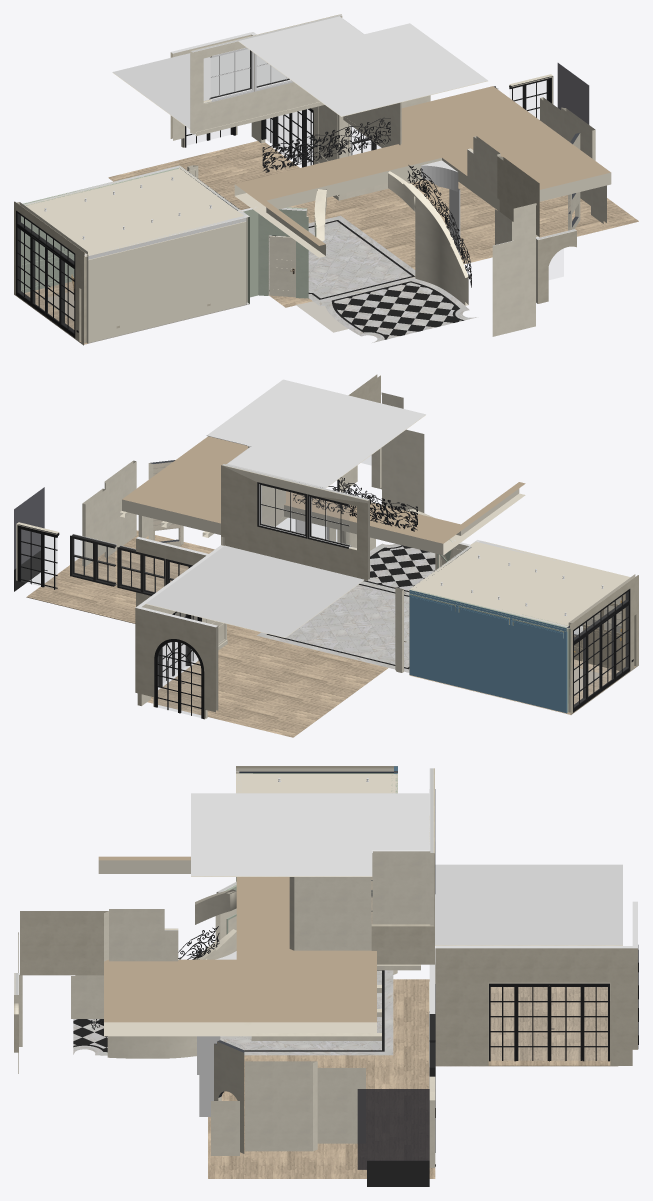
File: dining-room-99ef4219ed4d.glb
3 views of the same model, one above another, from view 1: azimuth 30°, elevation 25°; view 2: azimuth 150°, elevation 25°; view 3: azimuth 270°, elevation 25° (orthographic). The views are drawn at different scales.
Parts seen in each view (by area): view 1: dining-room-look-2575515a05775d9e, dining-room-look-9d91b47435c6fb33, dining-room-d999b7e09afcf2f4, dining-room-look-3b0077416469e01b, dining-room-2575515a05775d9e, dining-room-look-4a969f5cc1ae3dfe, dining-room-look-245f595ae2832e16, dining-room-look-e388ad8855329420, dining-room-look-6ea1225136f14ed6, dining-room-look-d5a4a1b5d3594c04, dining-room-look-8c6a7019fd0063e7, dining-room-701dbbc71a4c8bc6 (+41 smaller); view 2: dining-room-look-3b0077416469e01b, dining-room-b19b106fc304963c, dining-room-look-9d91b47435c6fb33, dining-room-look-2575515a05775d9e, dining-room-look-4a969f5cc1ae3dfe, dining-room-2575515a05775d9e, dining-room-look-245f595ae2832e16, dining-room-look-6ea1225136f14ed6, dining-room-look-969b861f9850351e, dining-room-look-d5a4a1b5d3594c04, dining-room-look-cdd3b97a7e9637be, dining-room-look-e388ad8855329420 (+26 smaller); view 3: dining-room-look-2575515a05775d9e, dining-room-look-3b0077416469e01b, dining-room-look-9d91b47435c6fb33, dining-room-look-4a969f5cc1ae3dfe, dining-room-look-e706aa16b4547c37, dining-room-look-5b6bbac285e58726, dining-room-look-69af8f587252f9fa, dining-room-look-62353aa10fc57f23, dining-room-look-cbd4bf73d9724a66, dining-room-look-32b959c9aa406288, dining-room-look-99336d62df756830, dining-room-2575515a05775d9e (+21 smaller).
Boxes of the visible parts, bbox=[...] form: dining-room-look-2575515a05775d9e: bbox=[234, 86, 611, 257]; dining-room-look-9d91b47435c6fb33: bbox=[238, 16, 487, 116]; dining-room-d999b7e09afcf2f4: bbox=[88, 216, 246, 342]; dining-room-look-3b0077416469e01b: bbox=[108, 141, 638, 307]; dining-room-2575515a05775d9e: bbox=[15, 166, 248, 256]; dining-room-look-4a969f5cc1ae3dfe: bbox=[112, 49, 288, 129]; dining-room-look-245f595ae2832e16: bbox=[190, 14, 342, 134]; dining-room-look-e388ad8855329420: bbox=[334, 282, 461, 339]; dining-room-look-6ea1225136f14ed6: bbox=[269, 221, 411, 298]; dining-room-look-d5a4a1b5d3594c04: bbox=[492, 235, 535, 336]; dining-room-look-8c6a7019fd0063e7: bbox=[388, 171, 468, 305]; dining-room-701dbbc71a4c8bc6: bbox=[16, 210, 75, 337]; dining-room-look-3b0077416469e01b: bbox=[26, 530, 387, 737]; dining-room-b19b106fc304963c: bbox=[409, 590, 567, 713]; dining-room-look-9d91b47435c6fb33: bbox=[206, 379, 425, 488]; dining-room-look-2575515a05775d9e: bbox=[122, 436, 525, 555]; dining-room-look-4a969f5cc1ae3dfe: bbox=[146, 545, 364, 637]; dining-room-2575515a05775d9e: bbox=[410, 541, 637, 628]; dining-room-look-245f595ae2832e16: bbox=[221, 464, 369, 580]; dining-room-look-6ea1225136f14ed6: bbox=[286, 584, 409, 667]; dining-room-look-969b861f9850351e: bbox=[135, 606, 218, 712]; dining-room-look-d5a4a1b5d3594c04: bbox=[382, 429, 424, 512]; dining-room-look-cdd3b97a7e9637be: bbox=[257, 482, 307, 538]; dining-room-look-e388ad8855329420: bbox=[368, 546, 435, 590]; dining-room-look-2575515a05775d9e: bbox=[98, 856, 376, 1036]; dining-room-look-3b0077416469e01b: bbox=[208, 979, 617, 1178]; dining-room-look-9d91b47435c6fb33: bbox=[191, 793, 429, 876]; dining-room-look-4a969f5cc1ae3dfe: bbox=[435, 864, 622, 945]; dining-room-look-e706aa16b4547c37: bbox=[435, 946, 632, 1065]; dining-room-look-5b6bbac285e58726: bbox=[245, 1061, 317, 1151]; dining-room-look-69af8f587252f9fa: bbox=[289, 877, 371, 950]; dining-room-look-62353aa10fc57f23: bbox=[20, 911, 108, 975]; dining-room-look-cbd4bf73d9724a66: bbox=[357, 1089, 429, 1169]; dining-room-look-32b959c9aa406288: bbox=[372, 851, 429, 924]; dining-room-look-99336d62df756830: bbox=[317, 1068, 365, 1143]; dining-room-2575515a05775d9e: bbox=[236, 766, 397, 793].
Size of the model in its own units: 20 by 6.36 by 16.79.
52 materials, 15 textured.
